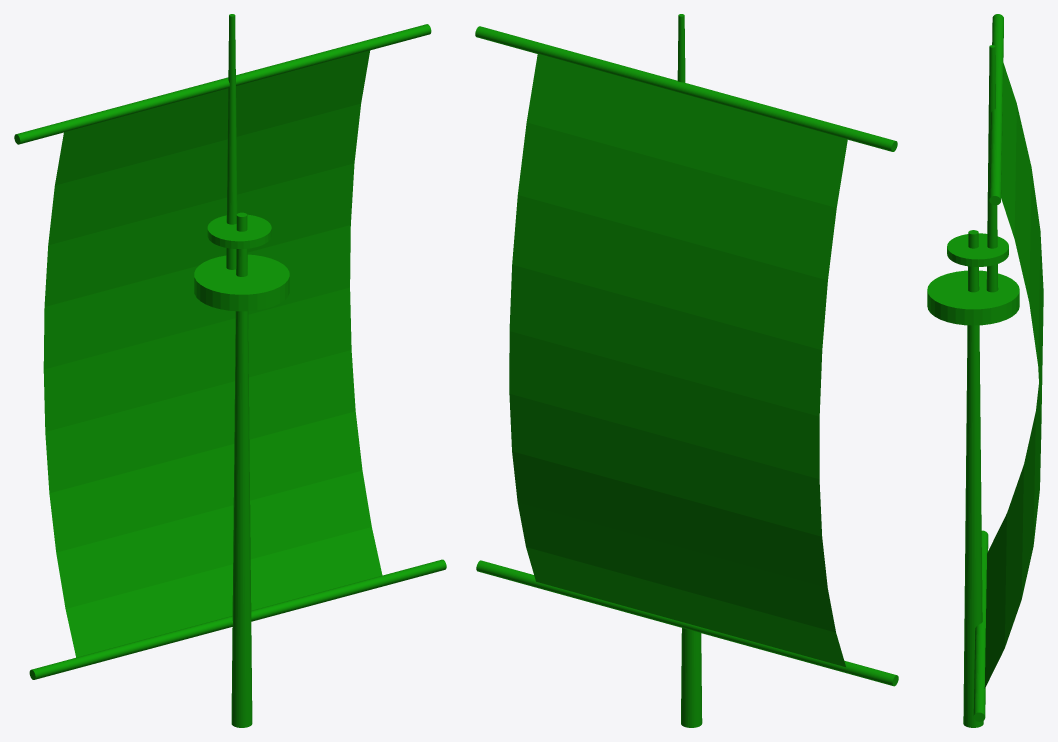
File: MastilMayor_Model.fbx
3 views of the same model, side by side, from view 1: azimuth 30°, elevation 25°; view 2: azimuth 150°, elevation 25°; view 3: azimuth 270°, elevation 25° (orthographic). The views are drawn at different scales.
Parts seen in each view (by area): view 1: MastilMayor; view 2: MastilMayor; view 3: MastilMayor.
Part boxes in pixels (x1=…): MastilMayor: x1=14, y1=14, x2=446, y2=727; MastilMayor: x1=475, y1=14, x2=898, y2=727; MastilMayor: x1=927, y1=14, x2=1043, y2=727.
Size of the model in its own units: 599 by 963 by 150.
